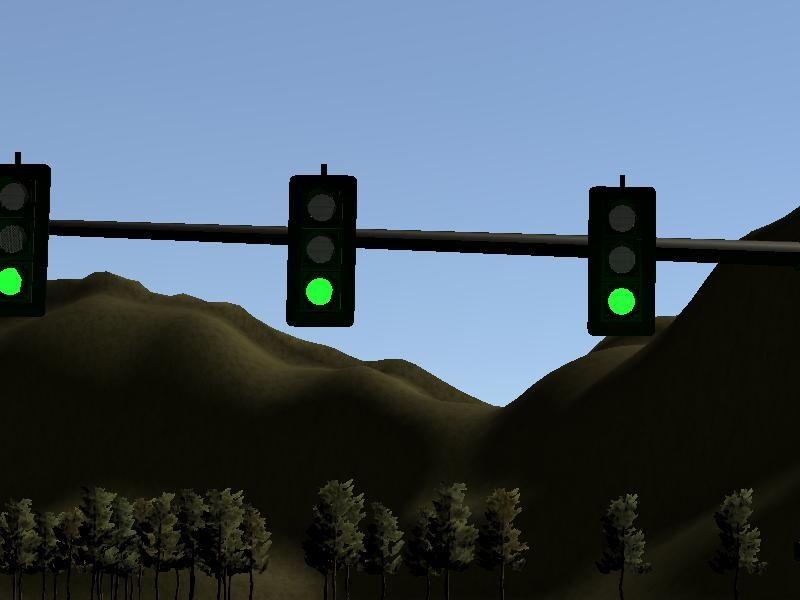GREEN: (284, 176, 357, 326), (586, 187, 656, 334), (1, 163, 51, 318)
